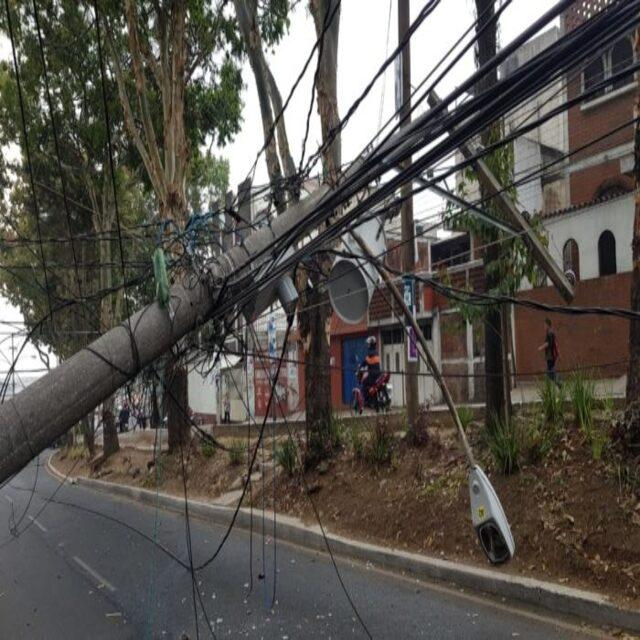Inclined Pole: (0, 2, 640, 570)
